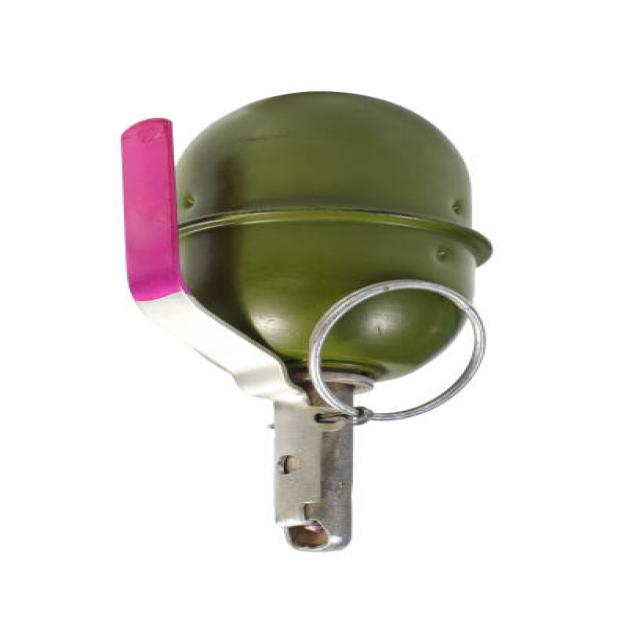grenade: (98, 89, 509, 566)
